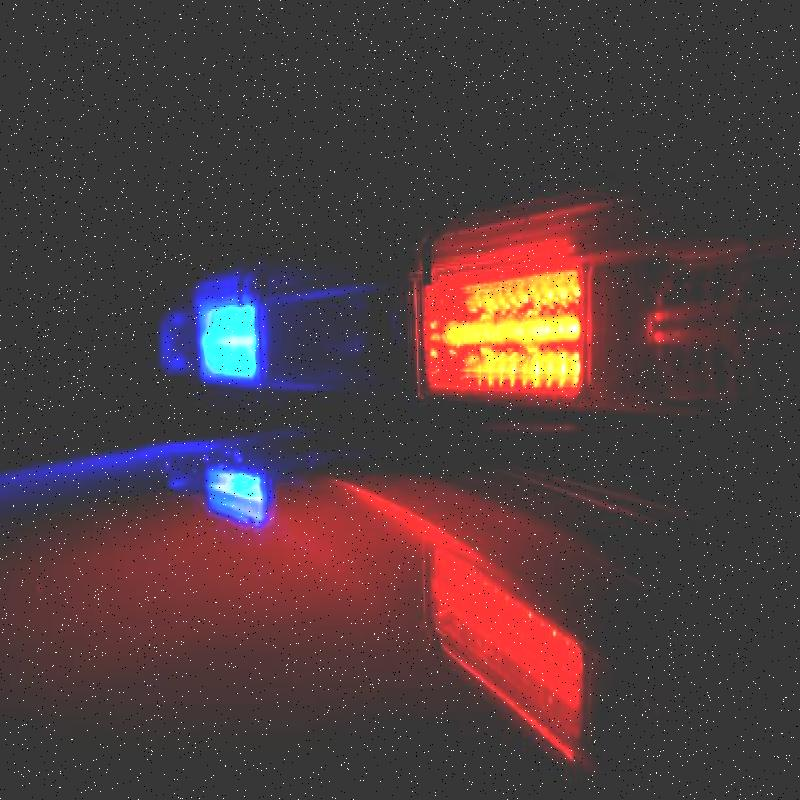AmbulanceSiren: (96, 194, 800, 484)
